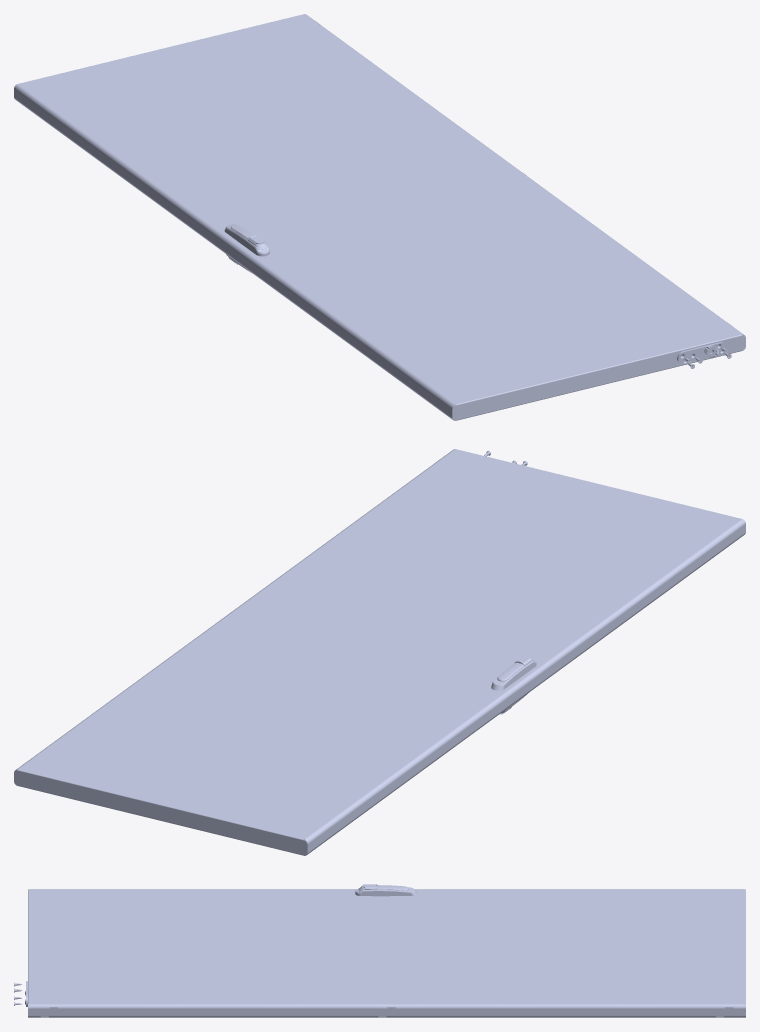
File: step-2.glb
3 views of the same model, one above another, from view 1: azimuth 30°, elevation 25°; view 2: azimuth 150°, elevation 25°; view 3: azimuth 270°, elevation 25° (orthographic). The views are drawn at different scales.
Parts seen in each view (by area): view 1: door2-1; view 2: door2-1; view 3: door2-1.
Boxes of the visible parts, x1=… form: door2-1: x1=14, y1=14, x2=745, y2=420; door2-1: x1=14, y1=449, x2=745, y2=855; door2-1: x1=28, y1=884, x2=745, y2=1017.
Bounding box in the file's own units: 0.8022 × 0.0992 × 2.11.
